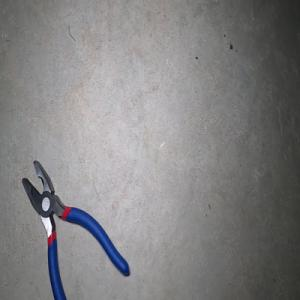Pliers: (21, 160, 129, 300)
